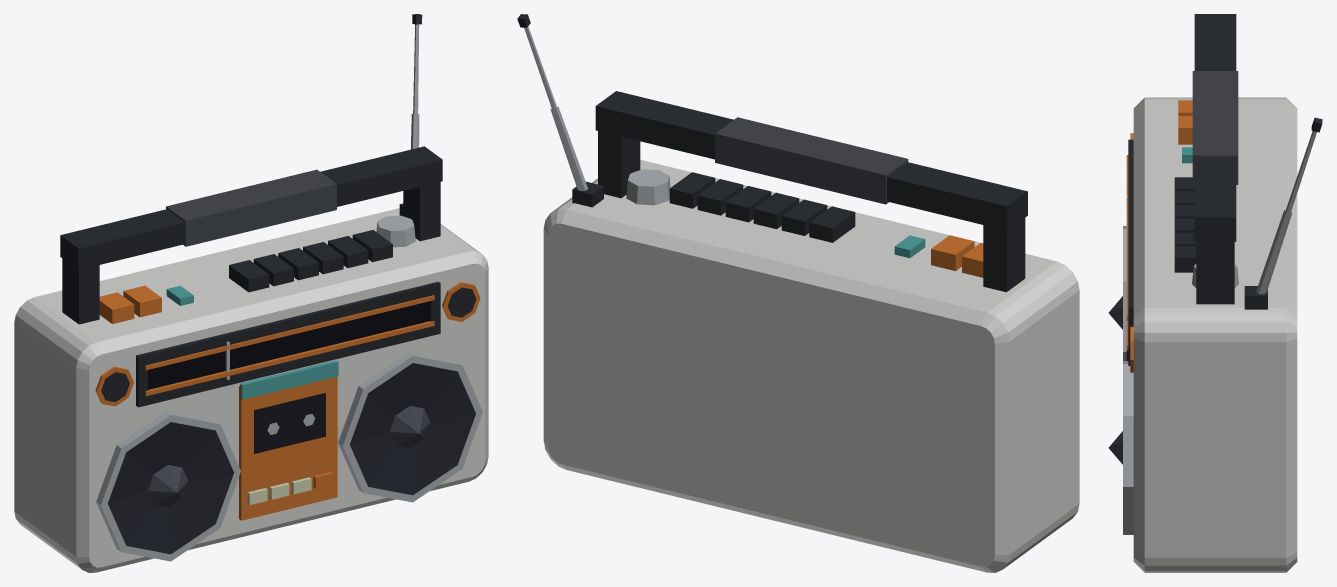
Rendered from home_boombox.glb.
3 views of the same model, side by side, from view 1: azimuth 30°, elevation 25°; view 2: azimuth 150°, elevation 25°; view 3: azimuth 270°, elevation 25° (orthographic). The views are drawn at different scales.
Visible parts, largest first — view 1: body, handle-mesh; view 2: body, handle-mesh; view 3: body, handle-mesh.
Part boxes in pixels (left/top/right/bottom): body: left=14, top=14, right=488, bottom=572; handle-mesh: left=60, top=146, right=442, bottom=324; body: left=517, top=14, right=1079, bottom=572; handle-mesh: left=595, top=91, right=1027, bottom=292; body: left=1108, top=97, right=1322, bottom=572; handle-mesh: left=1192, top=14, right=1238, bottom=304.
Size of the model in its own units: 0.6114 by 0.5658 by 0.236.
